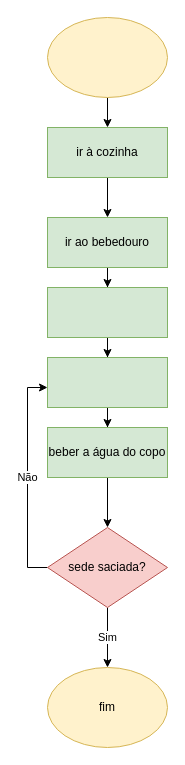
The diagram is 185 pixels wide and 765 high, and some of its shapes have lost their labels. Each missing label, with the box of its shape:
encher o copo de água: (46, 356, 168, 408)
início: (46, 16, 168, 98)
pegar um copo: (46, 286, 168, 338)
